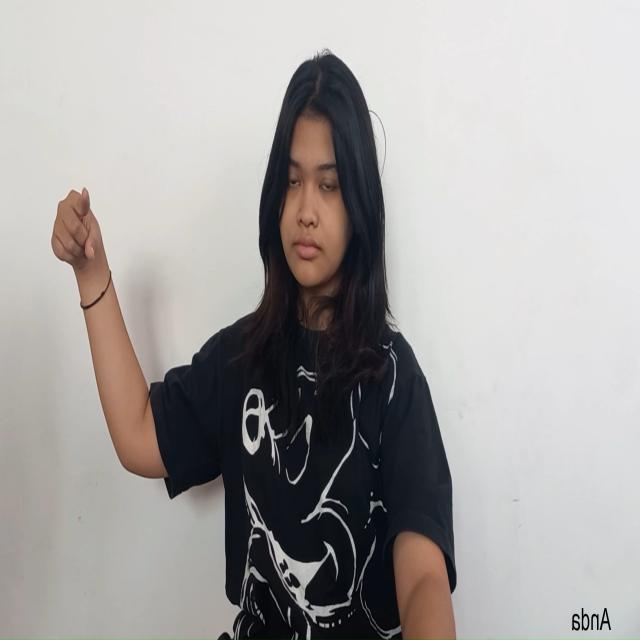Anda -BISINDO-: (50, 184, 103, 277)
